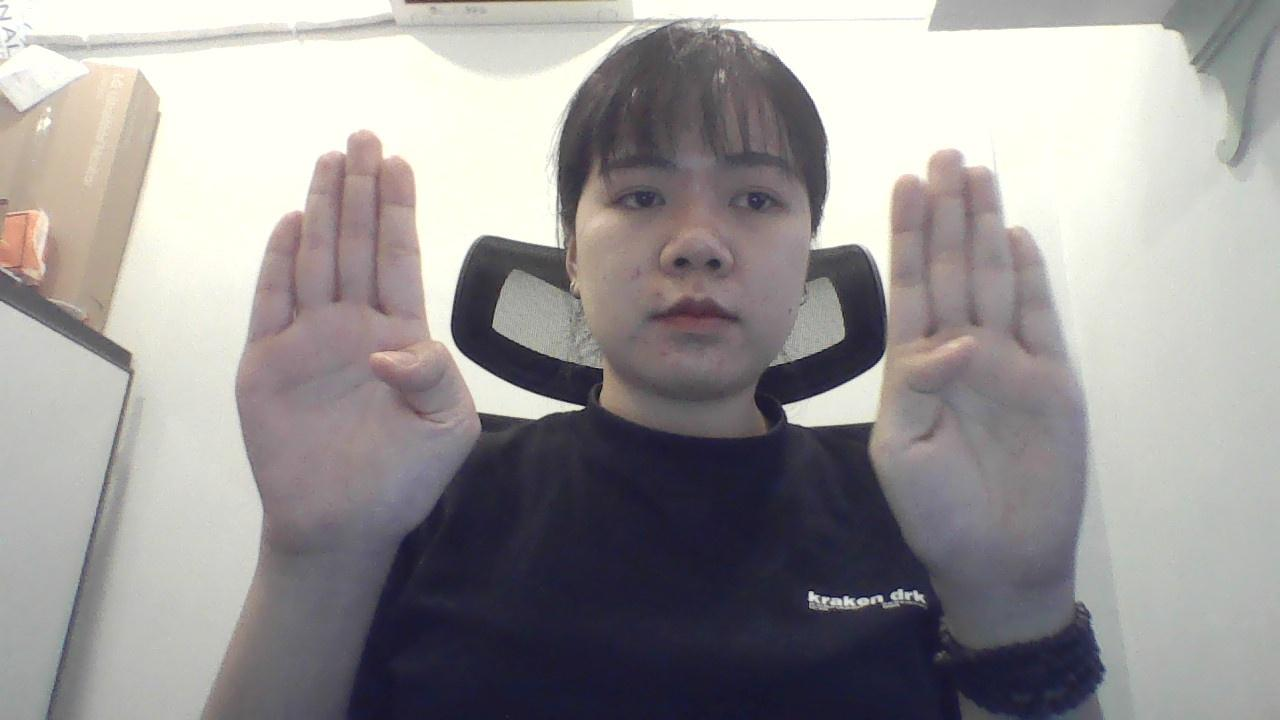B: (222, 117, 494, 614), (859, 124, 1103, 606)
